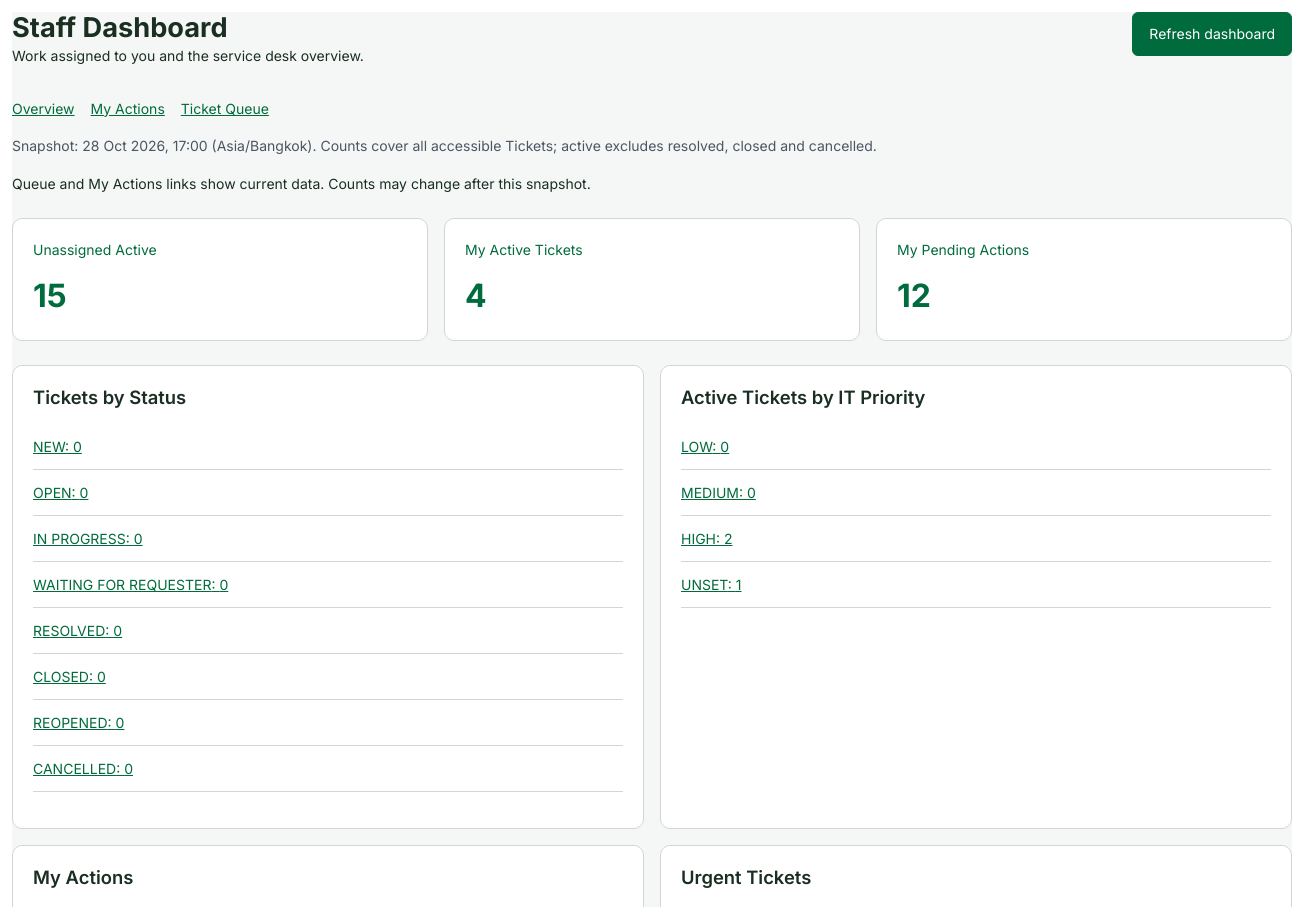
Test: Staff Dashboard › labels retained data on refresh failure
Expected: the link with aria-label "My Active Tickets: 4" is shown, [444, 218, 860, 341]
Click the button "Refresh dashboard". click: (1212, 34)
box: [1132, 12, 1292, 56]
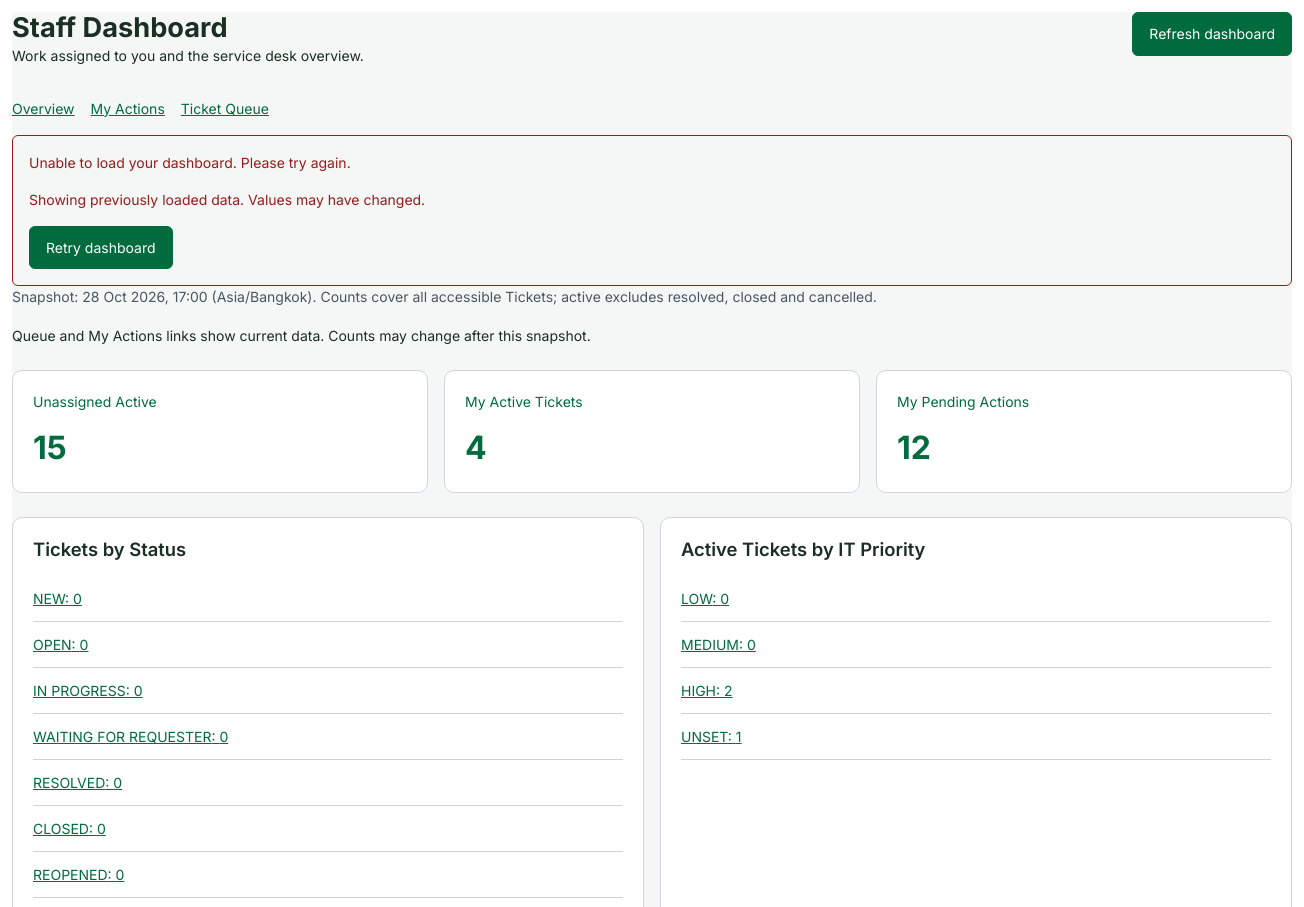
Expected: the message shows "Showing previously loaded data", [29, 191, 425, 208]
